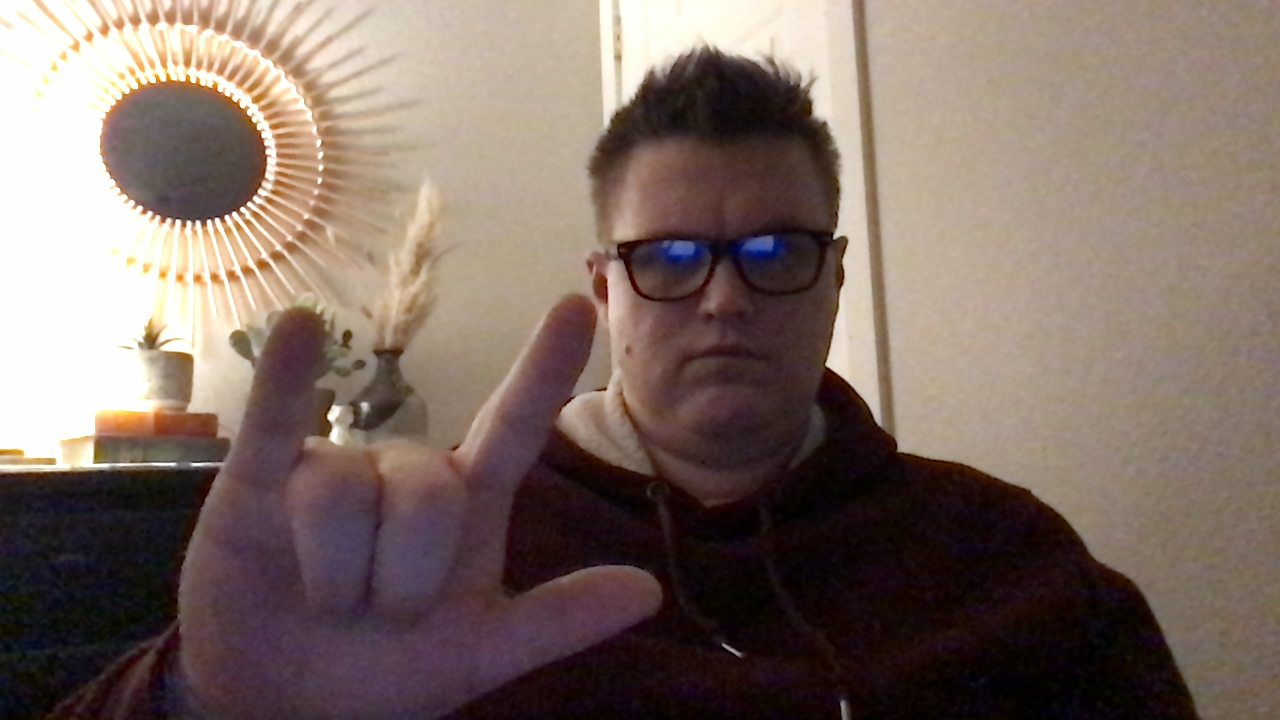iloveyou: (187, 308, 668, 720)
